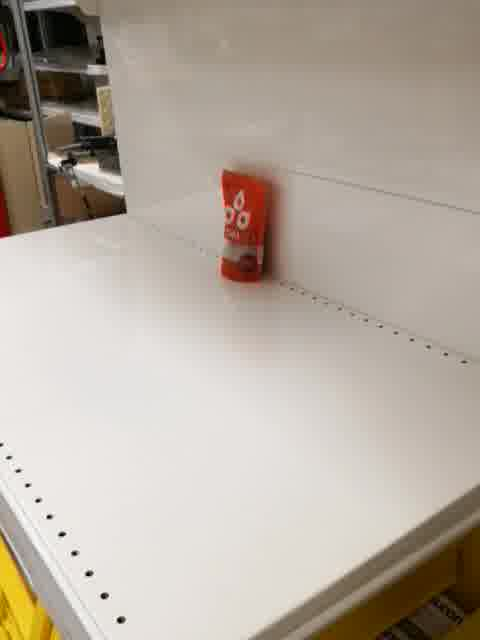whitechia: (216, 167, 279, 286)
